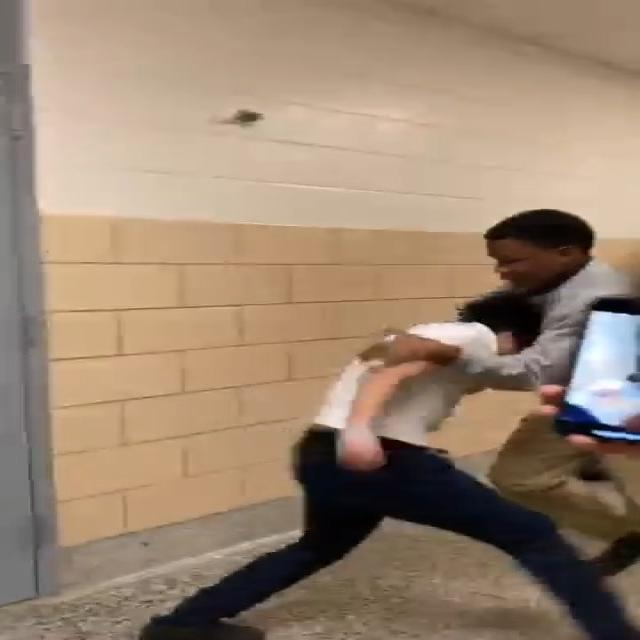fight: (256, 204, 617, 640)
